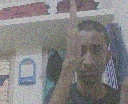hand: (66, 1, 81, 66)
